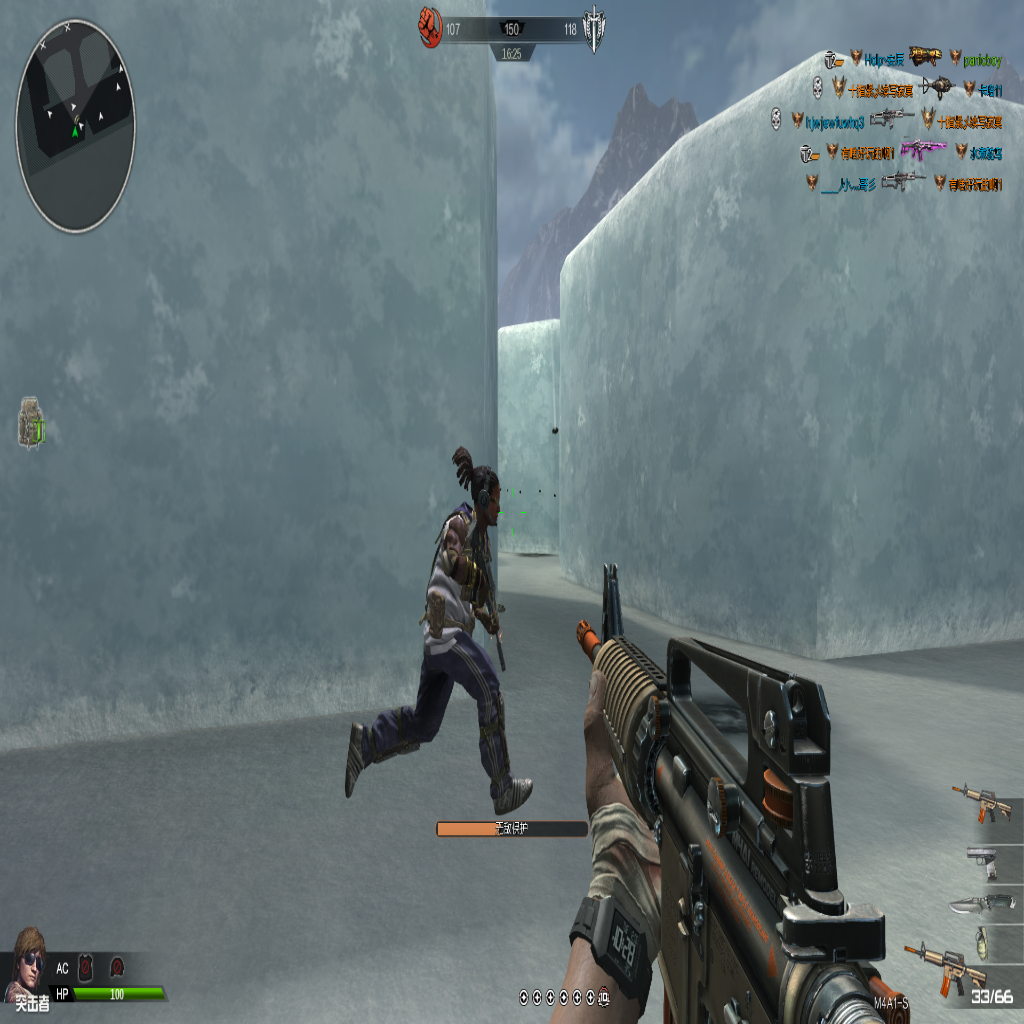tt: (348, 465, 535, 824)
